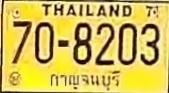0: (34, 21, 53, 63), (117, 22, 136, 64)
2: (95, 22, 114, 64)
3: (139, 22, 159, 64)
7: (12, 20, 31, 63)
8: (72, 21, 91, 64)
KRI: (48, 68, 123, 92)
